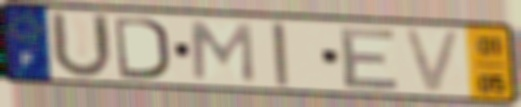D: (112, 14, 173, 82)
E: (338, 26, 403, 91)
I: (267, 20, 292, 88)
M: (188, 19, 258, 86)
U: (47, 9, 117, 82)
V: (399, 26, 466, 96)
